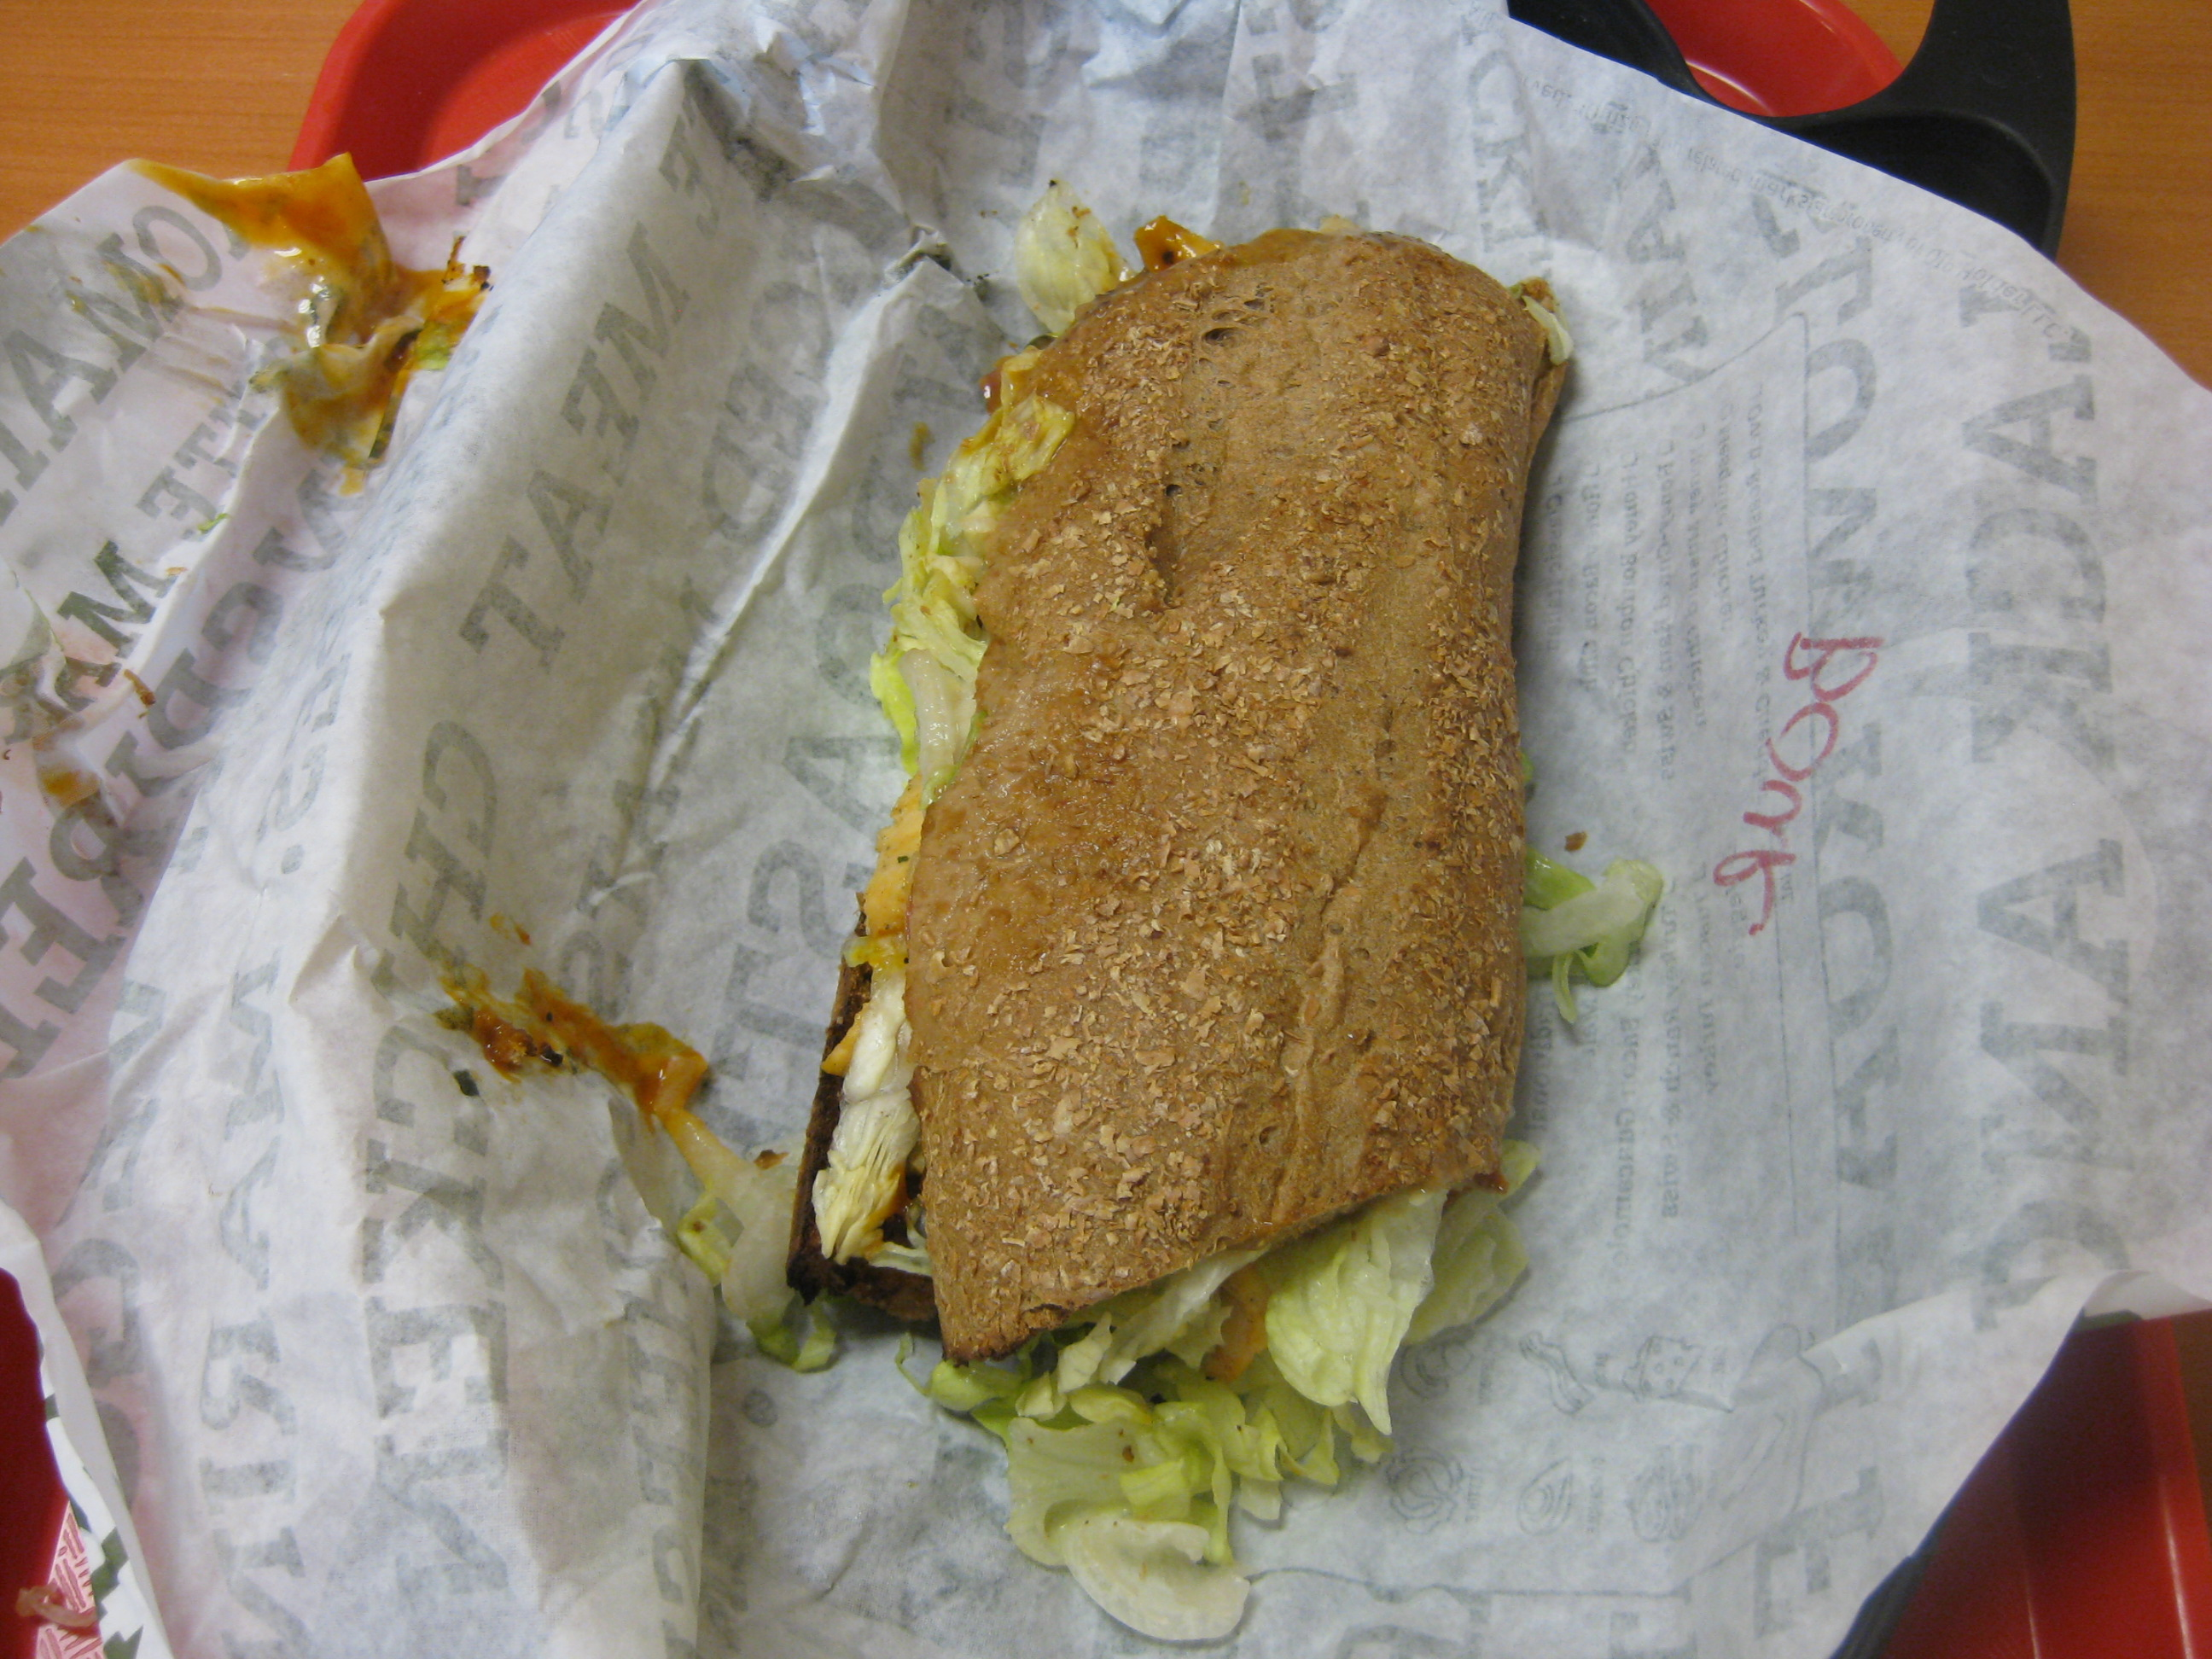sub: (865, 217, 1534, 1499)
